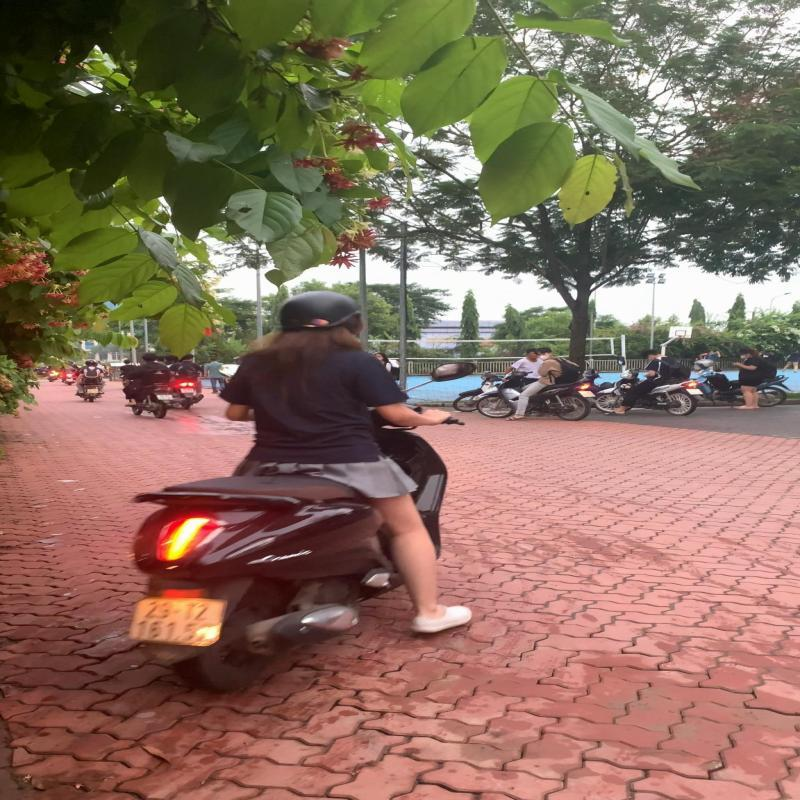helmet: (274, 290, 366, 332)
licenseplate: (125, 596, 232, 649)
motorcyclist: (124, 288, 476, 694)
nohelmet: (141, 353, 158, 362)
